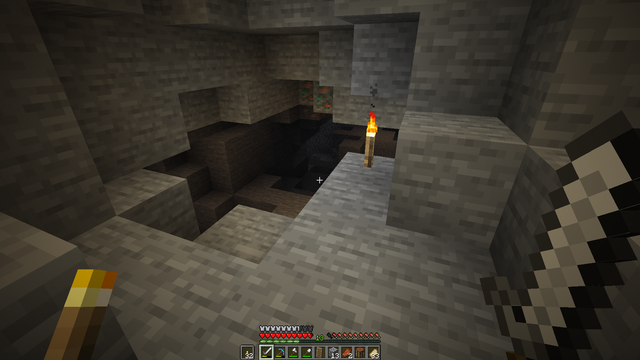copper: (295, 81, 335, 116)
